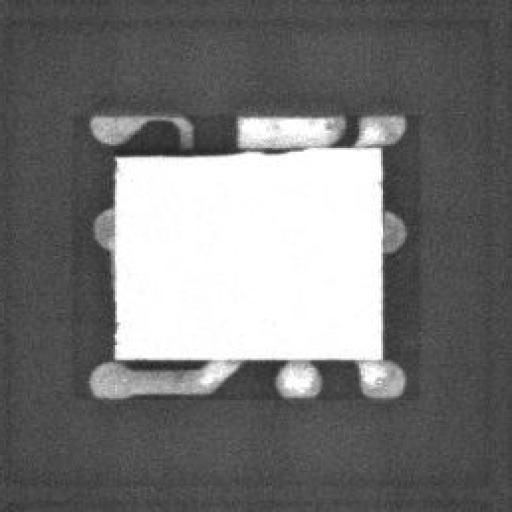DIE_BROKEN: (113, 142, 302, 156)
